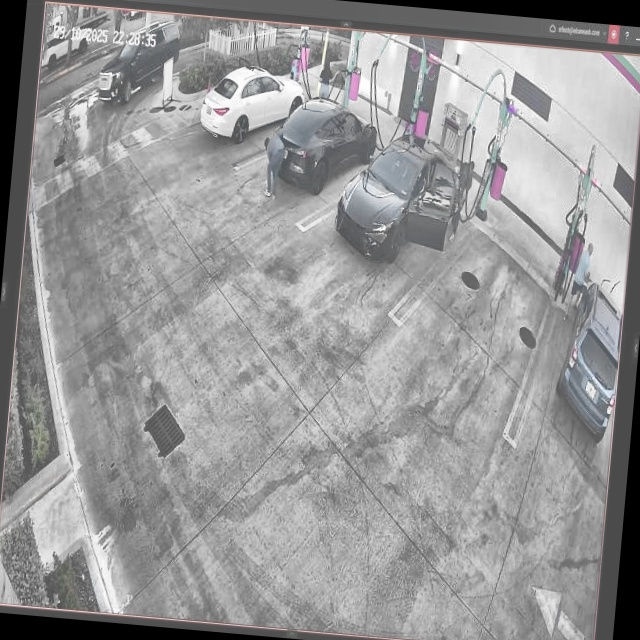Car: (332, 132, 459, 270), (267, 97, 379, 195), (200, 62, 307, 162)
